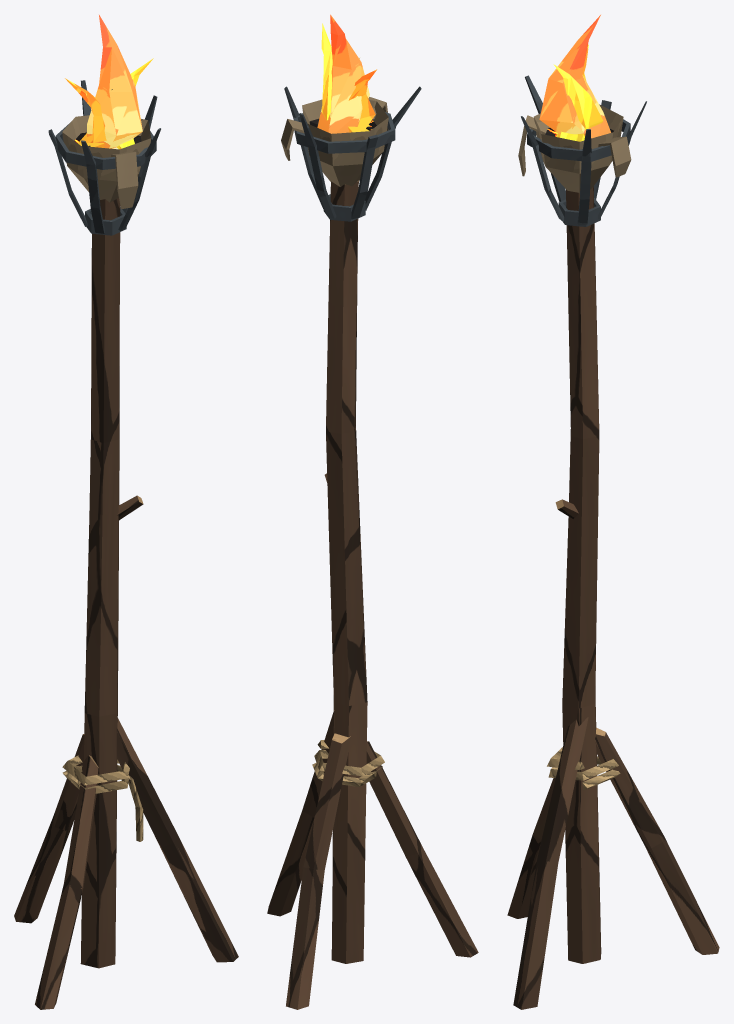
File: SM_TorchStand.fbx
3 views of the same model, side by side, from view 1: azimuth 30°, elevation 25°; view 2: azimuth 150°, elevation 25°; view 3: azimuth 270°, elevation 25° (orthographic).
Parts seen in each view (by area): view 1: SM_TorchStand, SM_TorchStand_Flame; view 2: SM_TorchStand, SM_TorchStand_Flame; view 3: SM_TorchStand, SM_TorchStand_Flame.
Boxes of the visible parts, x1=… form: SM_TorchStand: x1=14, y1=80, x2=238, y2=1009; SM_TorchStand_Flame: x1=65, y1=15, x2=153, y2=149; SM_TorchStand: x1=267, y1=86, x2=478, y2=1009; SM_TorchStand_Flame: x1=317, y1=14, x2=376, y2=133; SM_TorchStand: x1=507, y1=75, x2=719, y2=1009; SM_TorchStand_Flame: x1=539, y1=15, x2=610, y2=141.
Size of the model in its own units: 0.4984 by 2.2 by 0.4466.
